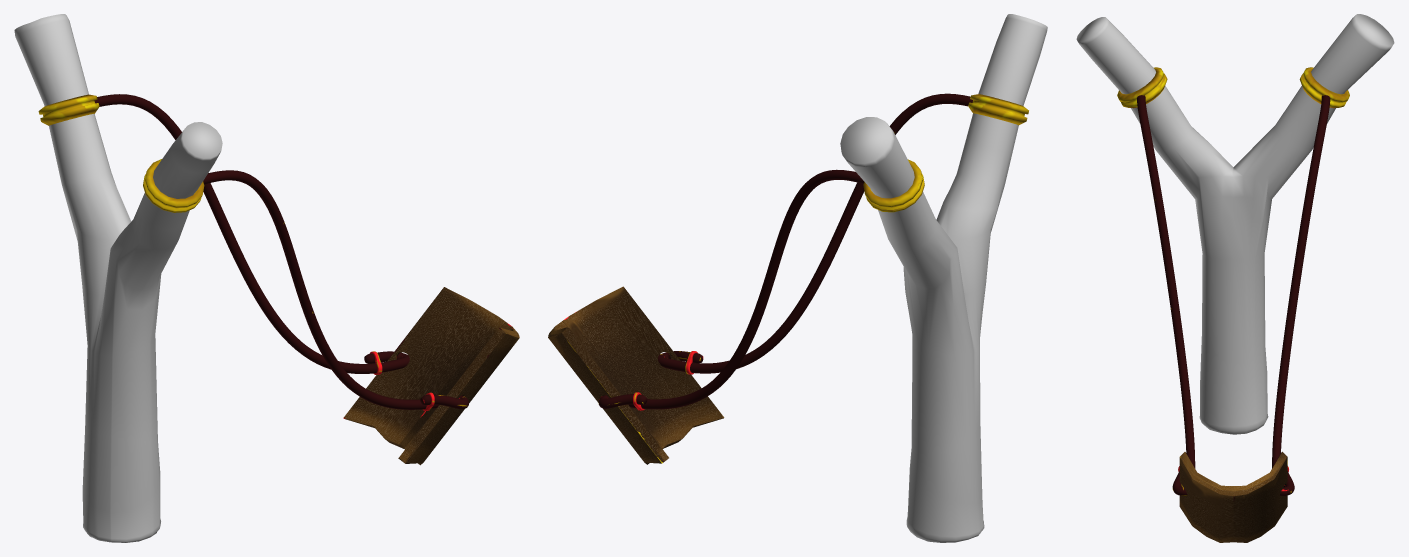
The model's file is Slingshot.fbx.
3 renders of one model, left to right at view 1: azimuth 30°, elevation 25°; view 2: azimuth 150°, elevation 25°; view 3: azimuth 270°, elevation 25°, orthographic. The views are drawn at different scales.
Parts seen in each view (by area): view 1: Slingshot, Seat, Rubber, Rings; view 2: Slingshot, Seat, Rubber, Rings; view 3: Slingshot, Rubber, Seat, Rings.
Part boxes in pixels (<box>): Slingshot: <box>14,14,222,542</box>; Seat: <box>343,287,519,465</box>; Rubber: <box>94,94,468,410</box>; Rings: <box>38,94,204,212</box>; Slingshot: <box>840,14,1047,542</box>; Seat: <box>548,286,724,464</box>; Rubber: <box>598,93,972,410</box>; Rings: <box>863,94,1028,212</box>; Slingshot: <box>1076,14,1394,434</box>; Rubber: <box>1137,95,1330,495</box>; Seat: <box>1179,451,1287,542</box>; Rings: <box>1117,67,1349,108</box>.
Size of the model in its own units: 1249 by 1297 by 926.
